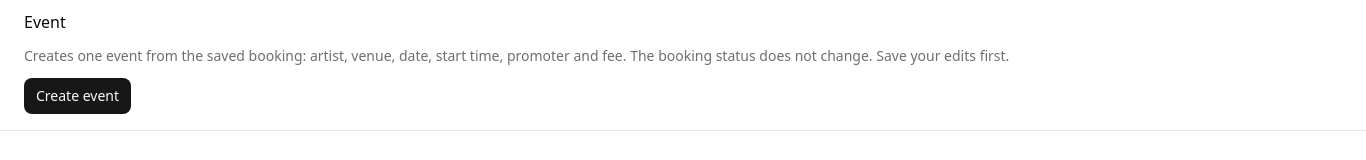
it: a double click sends one request
Click the button "Create event" at [78, 96], box [24,78,131,114]
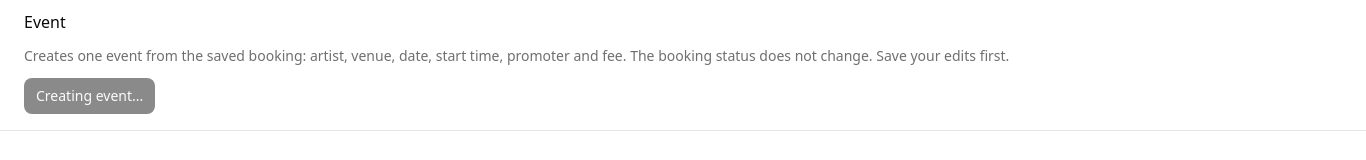
Click the button named "Create event" at [90, 96], box [24,78,155,114]
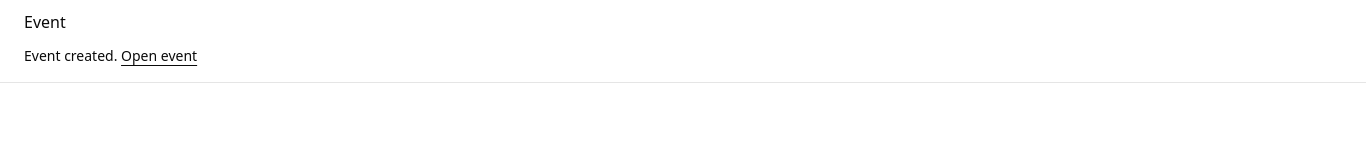
Check: the link "Open event" is shown, box [121,46,197,65]
